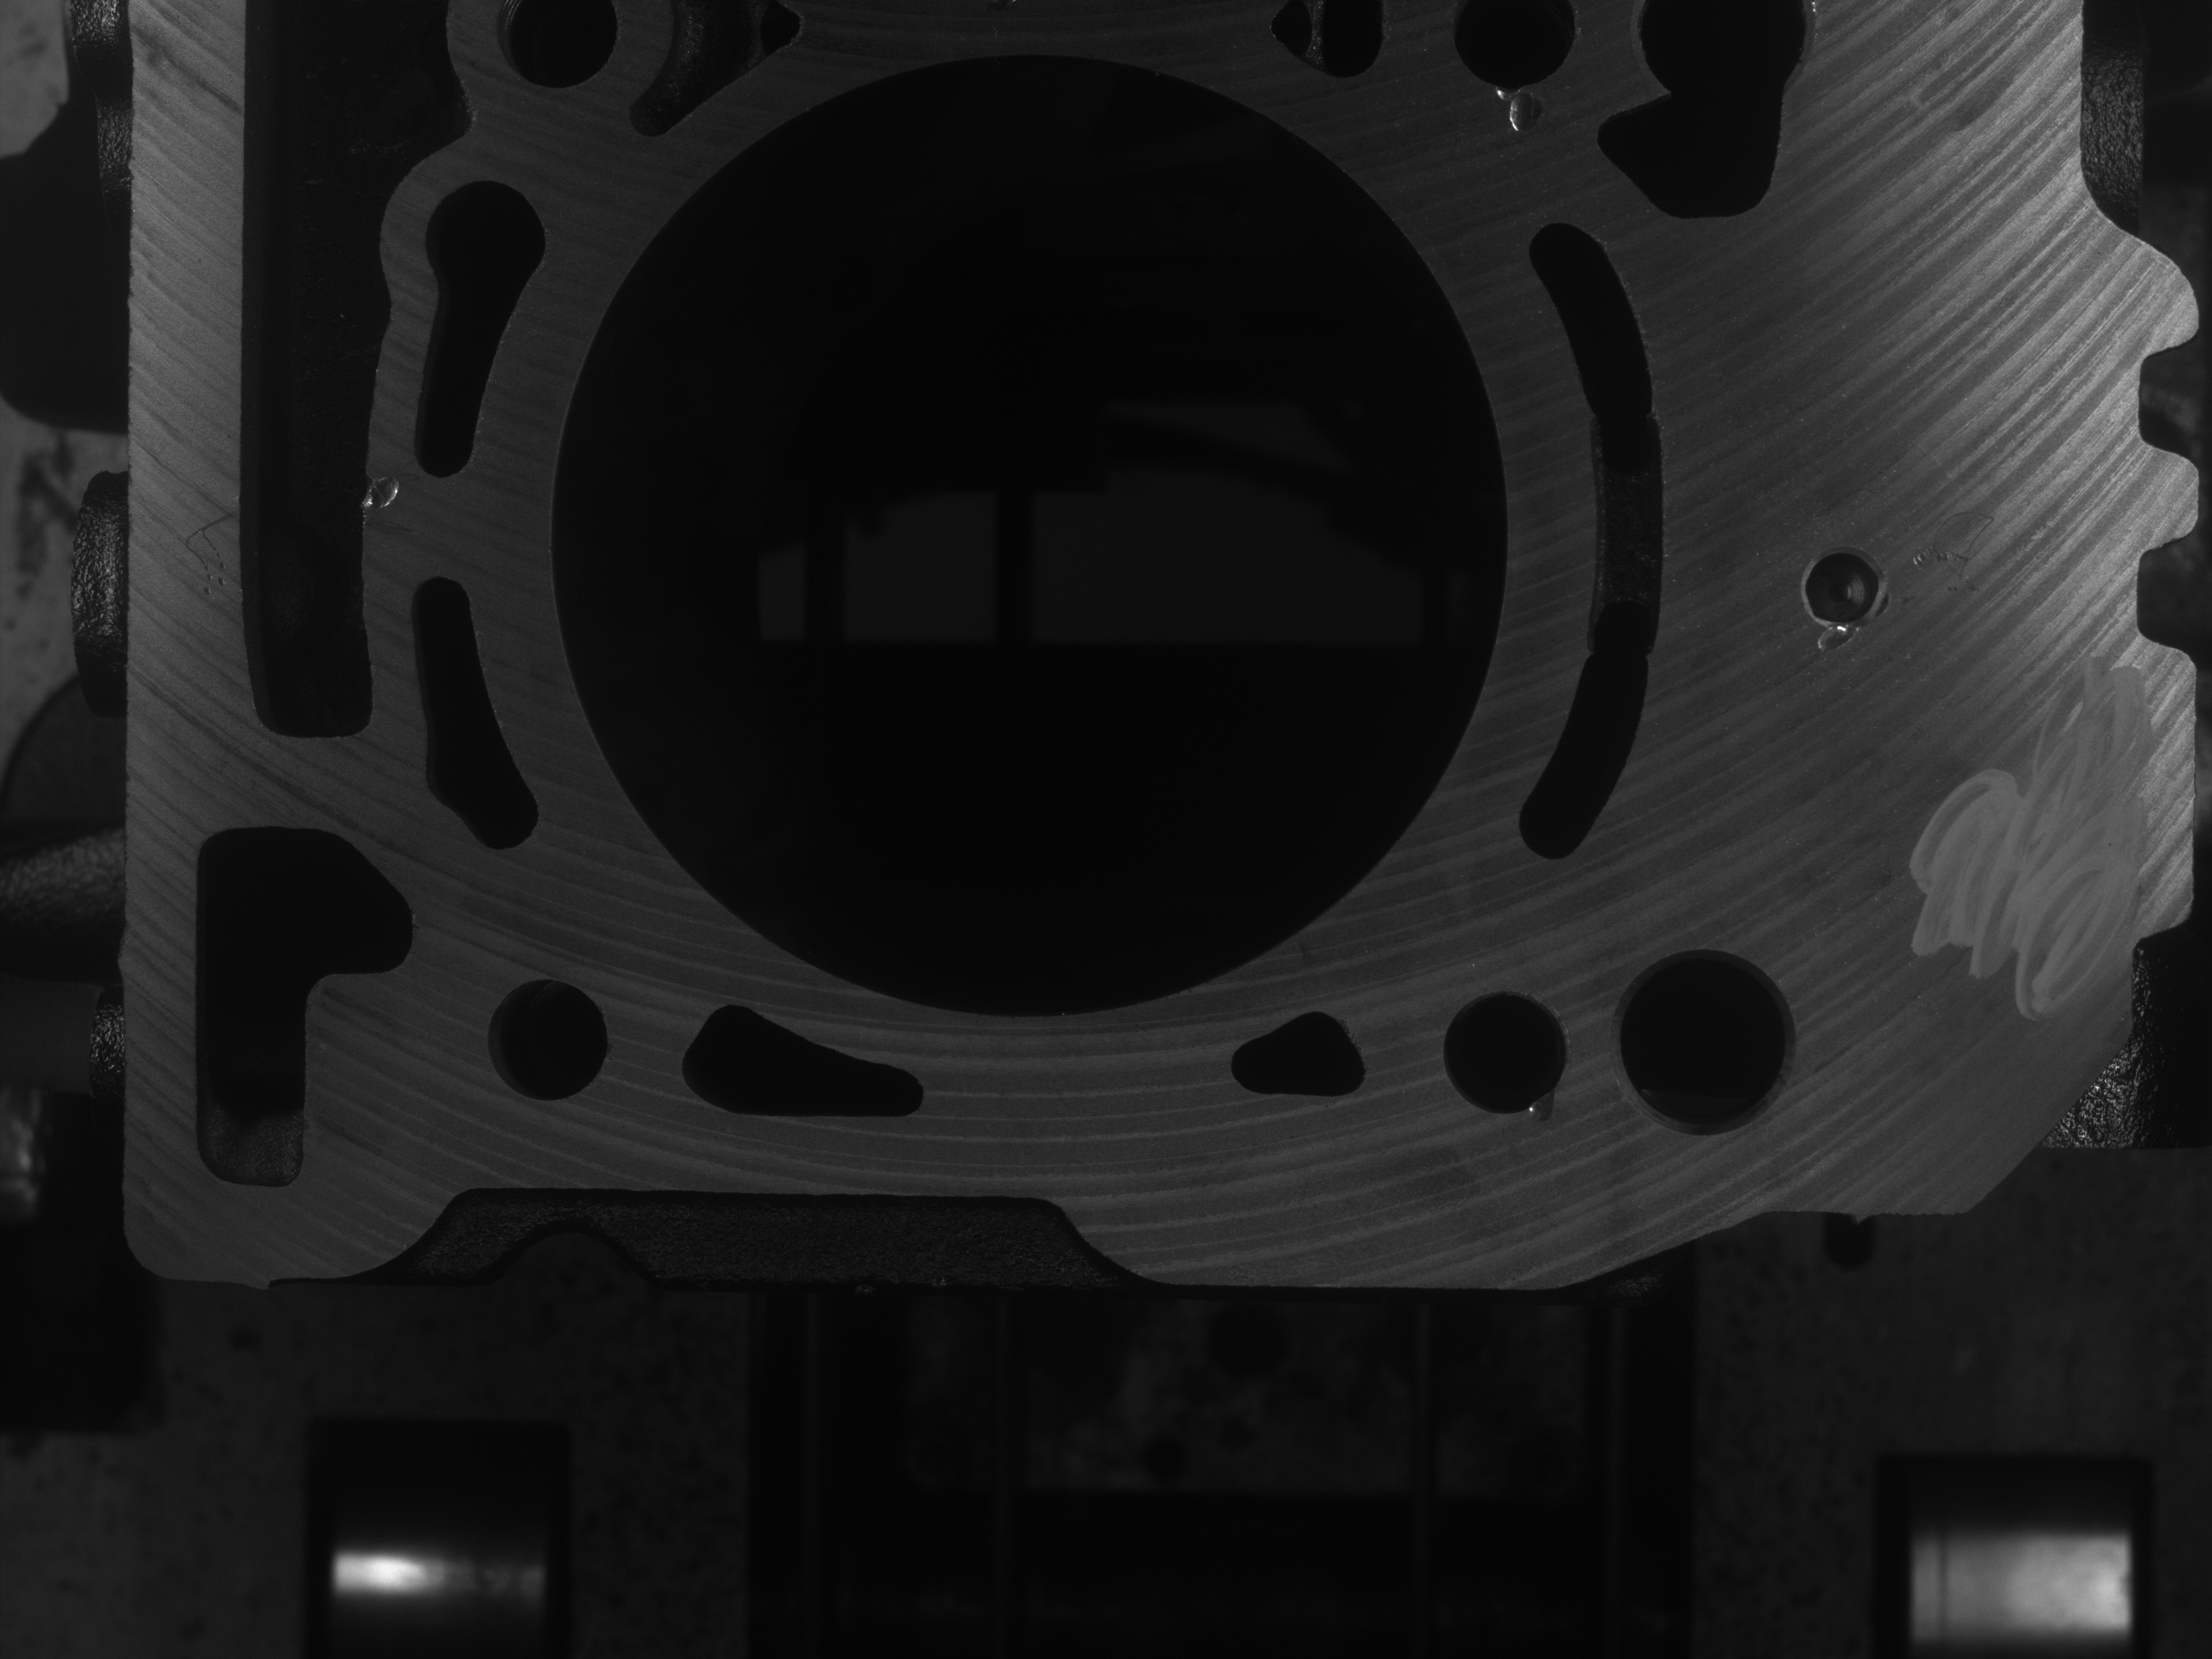dirty: (1904, 655, 2135, 985)
sandhole: (1496, 89, 1545, 150), (1811, 610, 1860, 652)
shrinkage: (364, 464, 404, 512), (1524, 1087, 1555, 1124)
